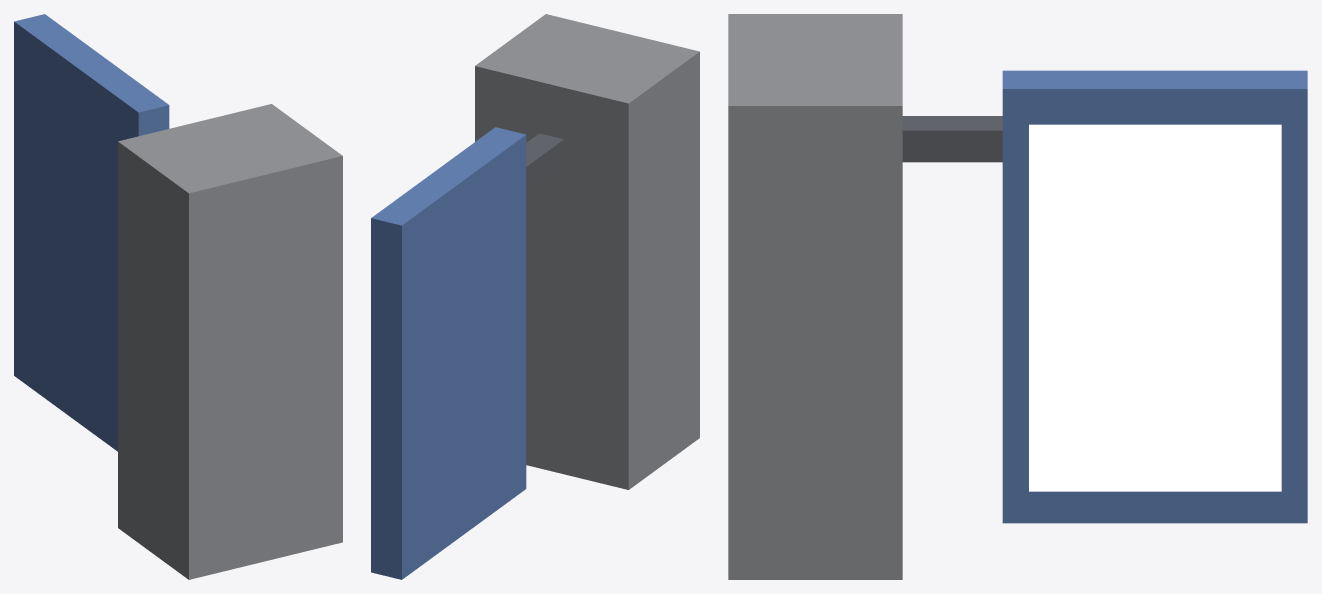
File: prop_kanban_sode_blue.glb
The picture shows the model from 3 angles, left to right: view 1: azimuth 30°, elevation 25°; view 2: azimuth 150°, elevation 25°; view 3: azimuth 270°, elevation 25°; orthographic projection. The views are drawn at different scales.
Visible parts, largest first — view 1: kanban_sode_blue; view 2: kanban_sode_blue; view 3: kanban_sode_blue.
Part boxes in pixels (x1=…): kanban_sode_blue: x1=14, y1=14, x2=342, y2=579; kanban_sode_blue: x1=371, y1=14, x2=699, y2=579; kanban_sode_blue: x1=728, y1=14, x2=1307, y2=579.
Bounding box in the file's own units: 0.5 × 1.2 × 1.33.
